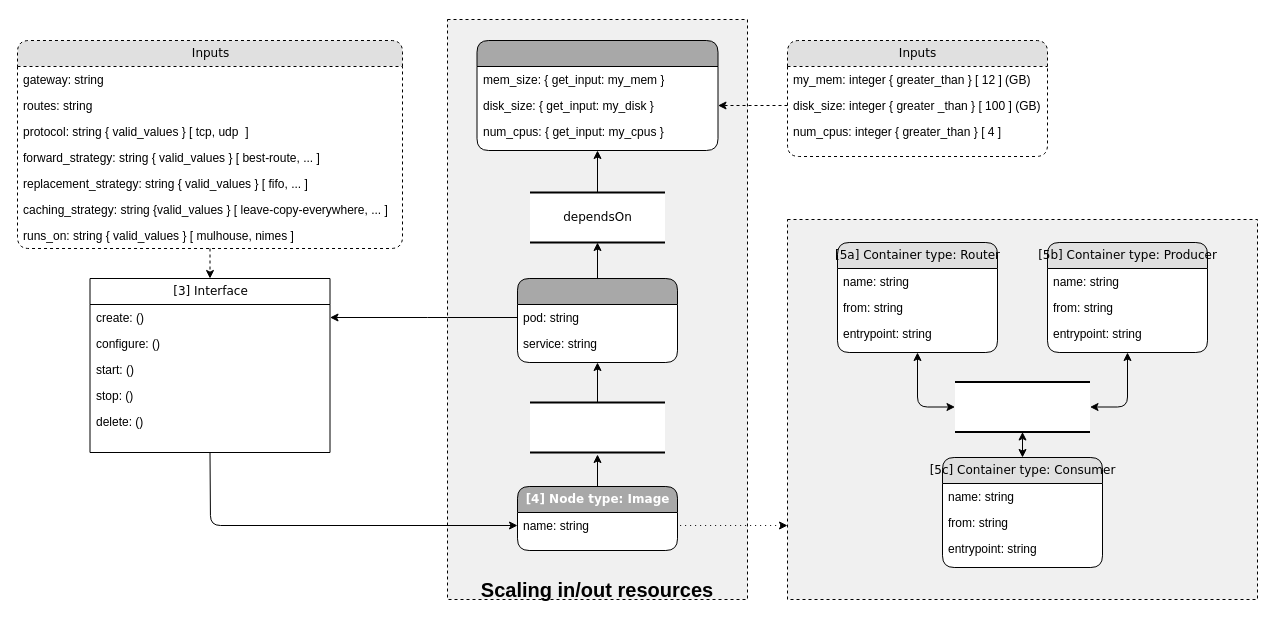
This 1275x619 diagram has some shape labels left out. The box of each missing label's shape, as (x1, y1, x2, y2) in pixels:
[1] Node type: VM: (476, 40, 718, 150)
[2] Node type: Kubernetes: (516, 278, 678, 362)
connectsTo: (954, 380, 1090, 432)
dependOn: (528, 401, 666, 453)
Scaling in/out the application: (786, 218, 1258, 600)
